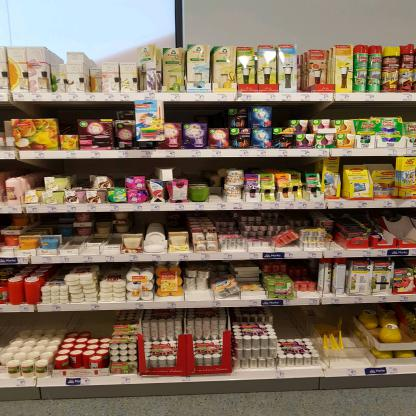Void: (284, 102, 408, 114), (274, 307, 305, 334), (169, 104, 224, 119), (131, 212, 188, 223), (57, 105, 77, 134), (188, 160, 206, 182), (11, 106, 50, 116), (81, 104, 110, 116)
